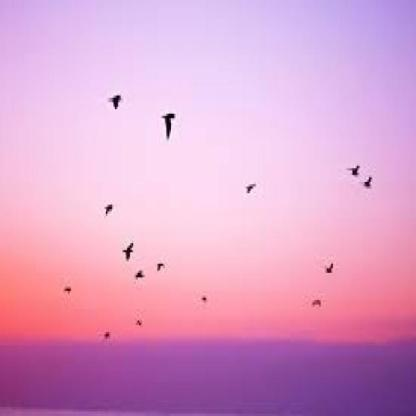bird: (230, 172, 277, 217), (152, 105, 185, 152), (106, 231, 143, 270), (324, 148, 365, 183), (311, 250, 345, 285), (302, 281, 331, 322), (97, 186, 131, 219), (362, 171, 386, 203), (108, 90, 128, 120), (156, 255, 170, 281)
